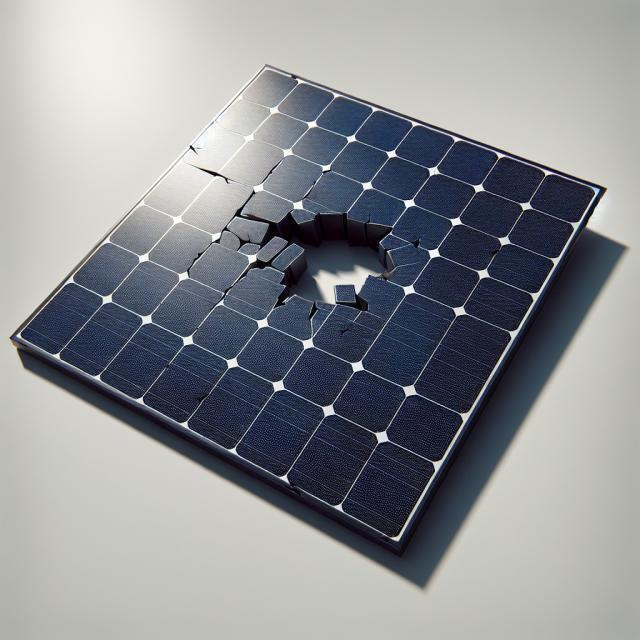Anomaly Solar Panel: (14, 0, 602, 554)
Structural Damage: (204, 193, 404, 329), (204, 263, 254, 309)
